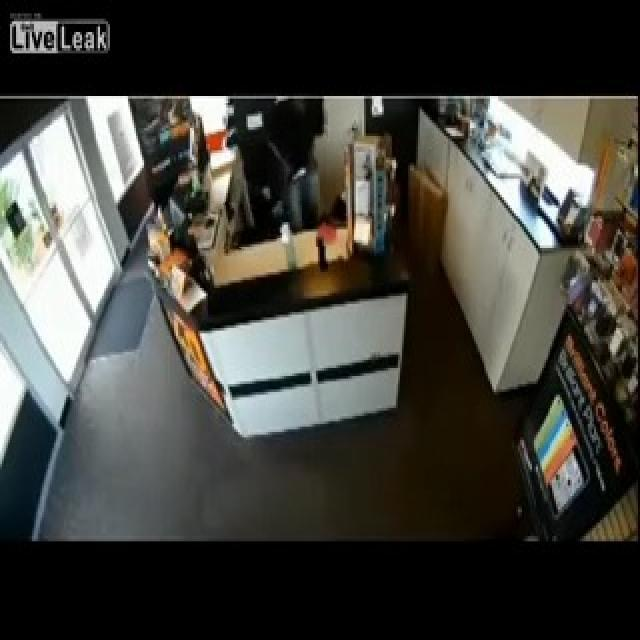Shoplifting: (211, 101, 328, 249)
